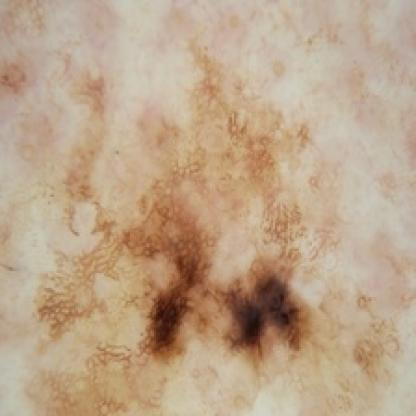Skin_Cancer-Malignant: (138, 249, 315, 372)
